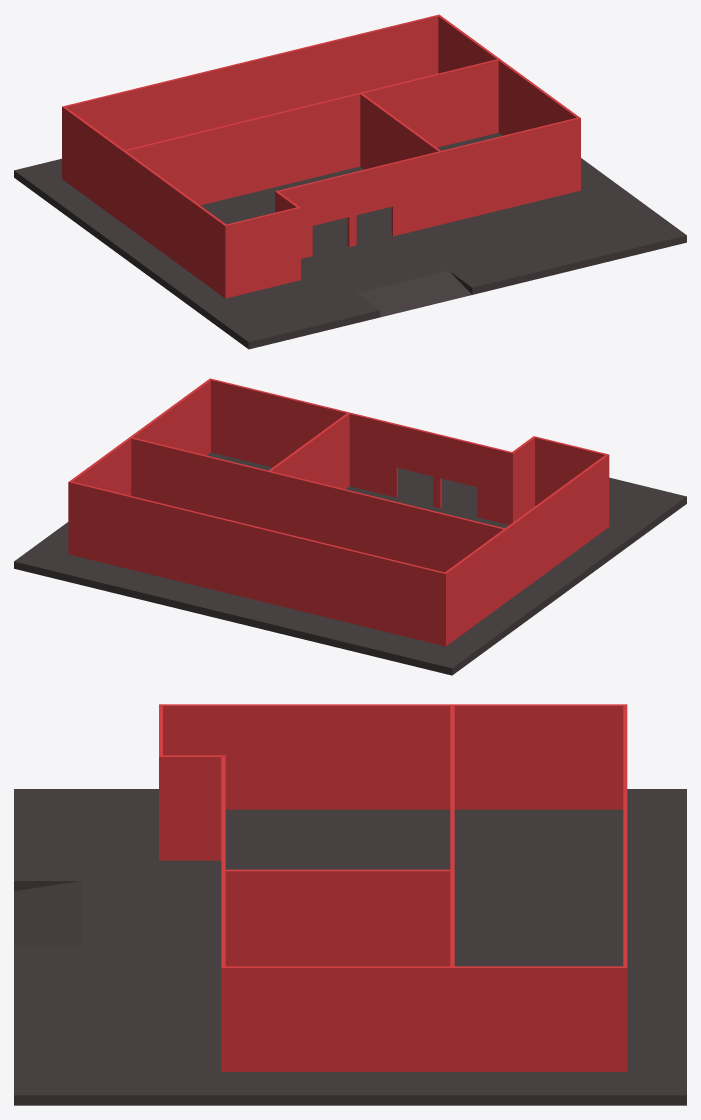
Rendered from PedalRing 1.fbx.
3 views of the same model, one above another, from view 1: azimuth 30°, elevation 25°; view 2: azimuth 150°, elevation 25°; view 3: azimuth 270°, elevation 25° (orthographic). The views are drawn at different scales.
Parts seen in each view (by area): view 1: Cube.001, Plane; view 2: Cube.001, Plane; view 3: Plane, Cube.001.
Boxes of the visible parts, <box> form: Cube.001: <box>62,14,580,298</box>; Plane: <box>14,132,686,349</box>; Cube.001: <box>68,378,609,646</box>; Plane: <box>14,452,686,675</box>; Plane: <box>14,789,686,1105</box>; Cube.001: <box>159,704,627,1071</box>.
Size of the model in its own units: 13930 by 2420 by 12930.
